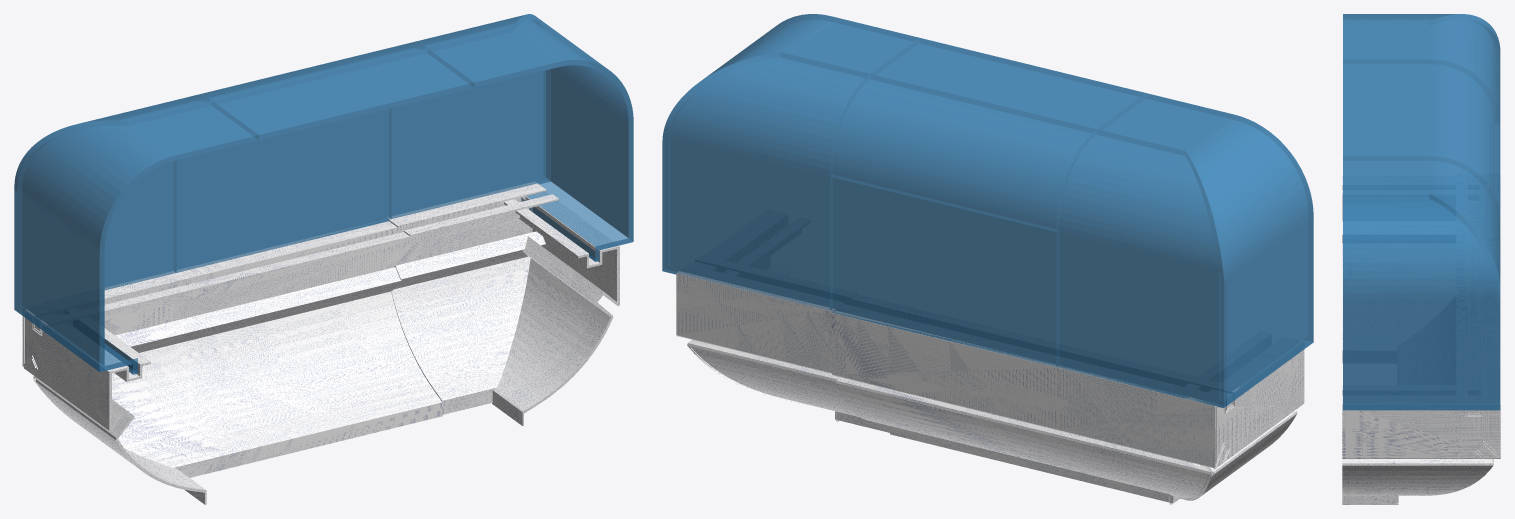
The model's file is 2_Module_end.fbx.
3 views of the same model, side by side, from view 1: azimuth 30°, elevation 25°; view 2: azimuth 150°, elevation 25°; view 3: azimuth 270°, elevation 25° (orthographic). The views are drawn at different scales.
Visible parts, largest first — view 1: Group1, skp3E69_1; view 2: Group1, skp3E69_1; view 3: Group1, skp3E69_1.
Boxes of the visible parts, <box> form: Group1: <box>14,14,633,374</box>; skp3E69_1: <box>22,181,619,504</box>; Group1: <box>662,14,1313,408</box>; skp3E69_1: <box>676,271,1304,504</box>; Group1: <box>1343,14,1500,410</box>; skp3E69_1: <box>1342,174,1500,504</box>.
Bounding box in the file's own units: 64.17 × 40.93 × 17.89.
